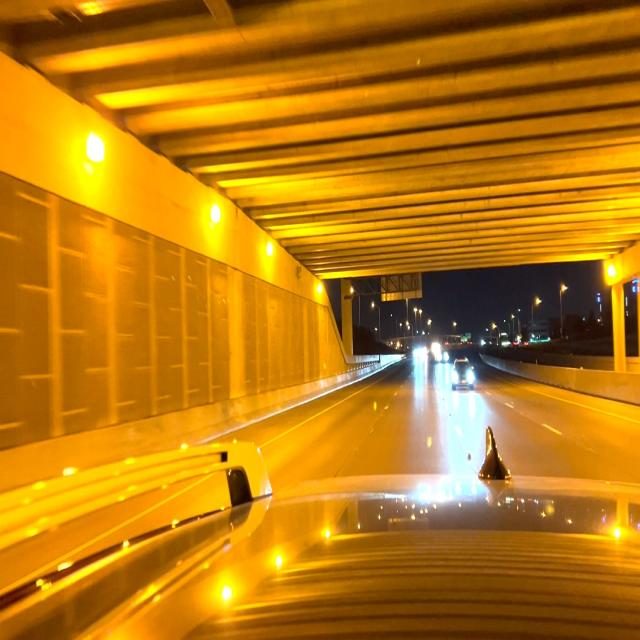back-of-sign: (382, 269, 423, 298)
